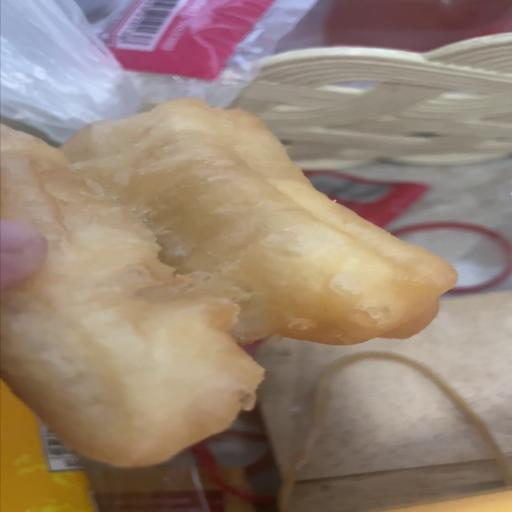street_golden_defect: (0, 102, 456, 473)
